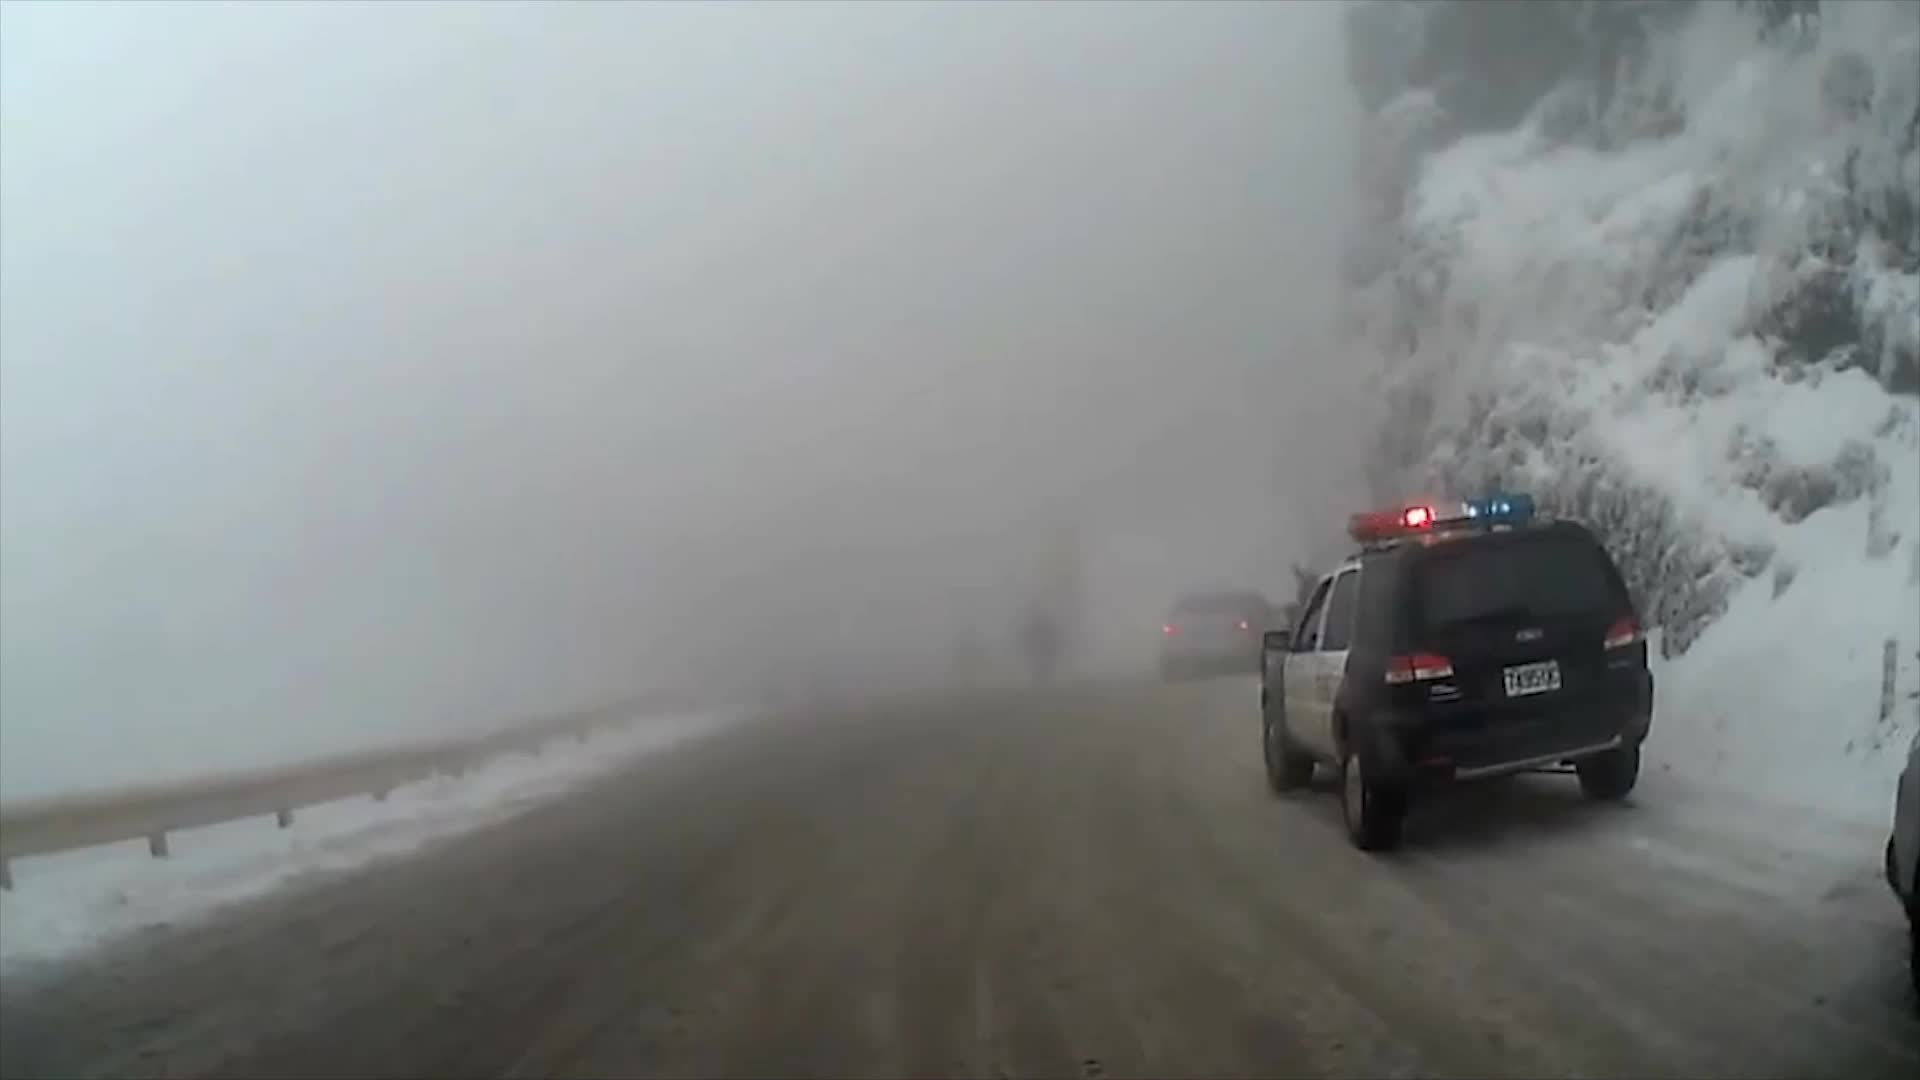vehicle: (1255, 489, 1654, 852), (1879, 729, 1919, 1027), (1158, 588, 1284, 680)
